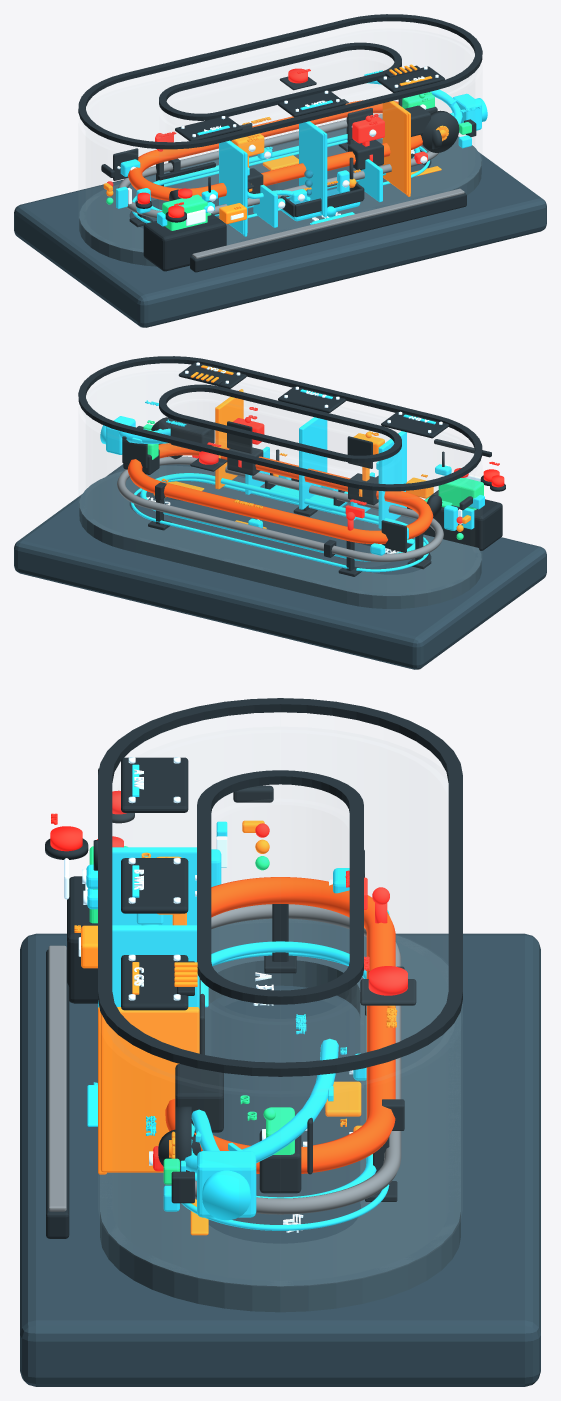
The model's file is utility-tunnel-annular-v04.glb.
The picture shows the model from 3 angles, top to bottom: view 1: azimuth 30°, elevation 25°; view 2: azimuth 150°, elevation 25°; view 3: azimuth 270°, elevation 25°; orthographic projection. The views are drawn at different scales.
Parts seen in each view (by area): view 1: MESH_BASE_01, MESH_RING_FLOOR, MESH_RING_OUTER_RAIL, MESH_RING_INNER_RAIL, MESH_CABLE_DUCT_01, MESH_PIPE_G01, MESH_CTRL_DRY_BAY, MESH_PIPE_UTILITY_01, GEO_ZONE_C_RIB, GEO_CABLE_DUCT_COVER, GEO_ZONE_B_RIB, GEO_ZONE_A_RIB (+17 smaller); view 2: MESH_BASE_01, MESH_RING_FLOOR, MESH_RING_OUTER_RAIL, MESH_PIPE_G01, MESH_PIPE_UTILITY_01, MESH_RING_INNER_RAIL, MESH_PIPE_UTILITY_02, MESH_CTRL_DRY_BAY, MESH_LED_RING, GEO_ZONE_B_RIB, GEO_ZONE_A_RIB, GEO_ZONE_C_RIB (+13 smaller); view 3: MESH_BASE_01, MESH_RING_FLOOR, MESH_RING_OUTER_RAIL, MESH_PIPE_G01, GEO_ZONE_C_RIB, MESH_RING_INNER_RAIL, MESH_PIPE_UTILITY_01, GEO_CABLE_DUCT_COVER, MESH_ROOF_HATCH_B, MESH_ROOF_HATCH_A, GEO_ZONE_B_RIB, MESH_ROOF_HATCH_C (+15 smaller).
Boxes of the visible parts, box(x1,y1,x2,y2) form: MESH_BASE_01: box(14, 128, 546, 327); MESH_RING_FLOOR: box(79, 128, 481, 266); MESH_RING_OUTER_RAIL: box(78, 14, 482, 149); MESH_RING_INNER_RAIL: box(159, 42, 401, 120); MESH_CABLE_DUCT_01: box(190, 193, 466, 272); MESH_PIPE_G01: box(128, 100, 422, 200); MESH_CTRL_DRY_BAY: box(143, 213, 226, 271); MESH_PIPE_UTILITY_01: box(118, 114, 439, 218); GEO_ZONE_C_RIB: box(382, 100, 410, 194); GEO_CABLE_DUCT_COVER: box(192, 188, 464, 258); GEO_ZONE_B_RIB: box(299, 121, 327, 215); GEO_ZONE_A_RIB: box(219, 140, 247, 234); MESH_BASE_01: box(14, 464, 546, 669); MESH_RING_FLOOR: box(79, 465, 481, 608); MESH_RING_OUTER_RAIL: box(78, 356, 482, 491); MESH_PIPE_G01: box(127, 443, 433, 543); MESH_PIPE_UTILITY_01: box(117, 456, 443, 561); MESH_RING_INNER_RAIL: box(159, 384, 401, 462); MESH_PIPE_UTILITY_02: box(140, 473, 415, 561); MESH_CTRL_DRY_BAY: box(423, 490, 502, 550); MESH_LED_RING: box(130, 478, 428, 572); GEO_ZONE_B_RIB: box(299, 417, 327, 509); GEO_ZONE_A_RIB: box(378, 431, 406, 528); GEO_ZONE_C_RIB: box(215, 390, 243, 489); MESH_BASE_01: box(20, 933, 540, 1386); MESH_RING_FLOOR: box(100, 918, 460, 1312); MESH_RING_OUTER_RAIL: box(98, 698, 462, 1076); MESH_PIPE_G01: box(165, 877, 395, 1173); GEO_ZONE_C_RIB: box(100, 1007, 199, 1172); MESH_RING_INNER_RAIL: box(197, 770, 363, 1004); MESH_PIPE_UTILITY_01: box(195, 904, 401, 1214); GEO_CABLE_DUCT_COVER: box(48, 945, 66, 1211); MESH_ROOF_HATCH_B: box(121, 858, 188, 913); MESH_ROOF_HATCH_A: box(121, 757, 188, 812); GEO_ZONE_B_RIB: box(112, 925, 199, 1008); MESH_ROOF_HATCH_C: box(121, 955, 188, 1010).
Bounding box in the file's own units: 1.05 × 0.389 × 0.58.
